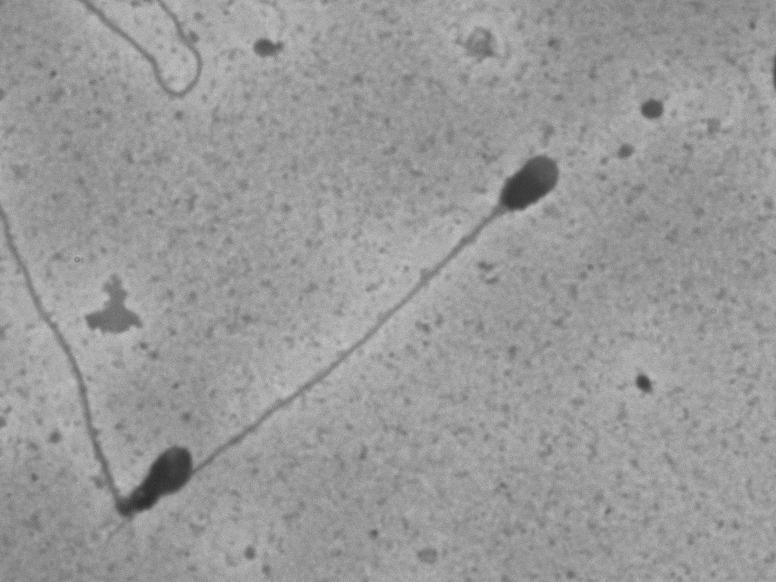Normal: (191, 128, 573, 495)
